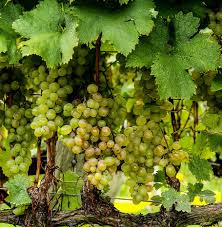grapes: (78, 81, 129, 194), (132, 87, 166, 206), (3, 81, 37, 176), (30, 64, 69, 142)
